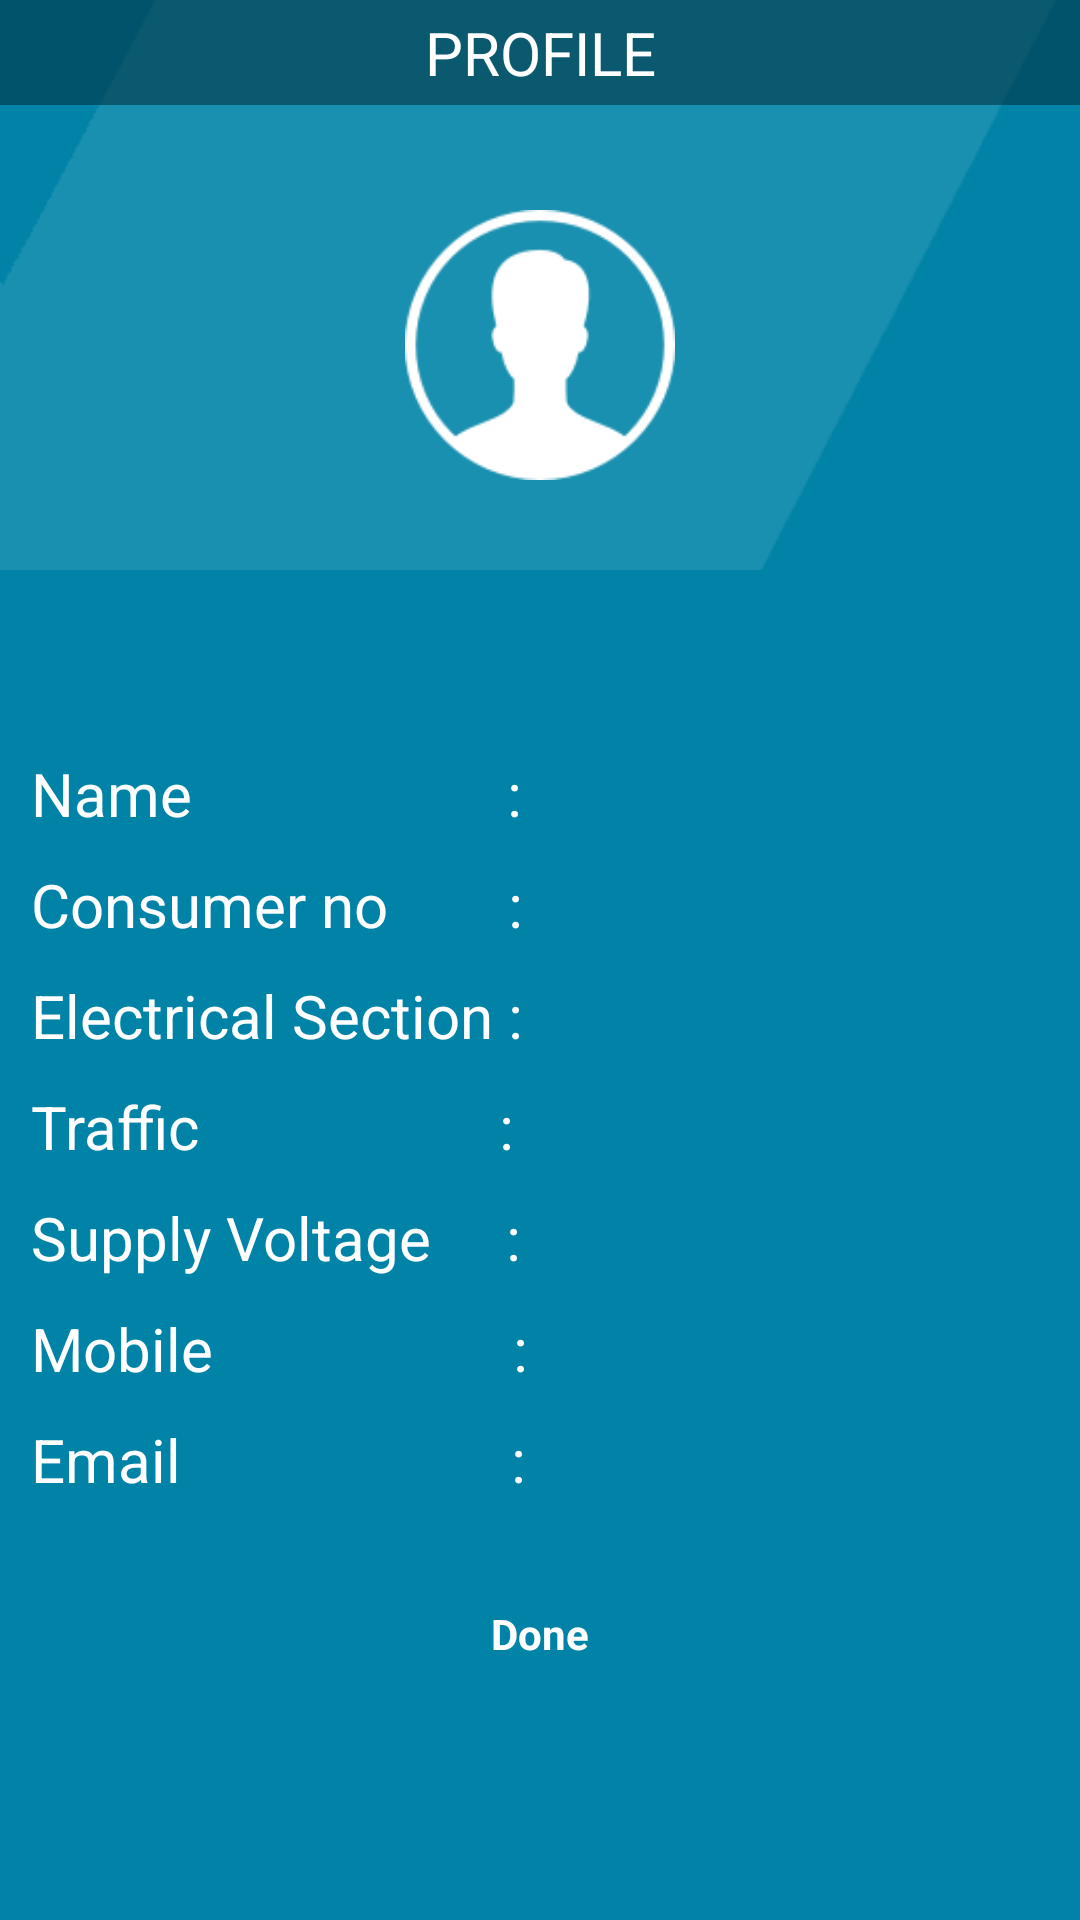

Named icons in this screenshot (1080px×1920px) and their bounding boxes, (x1, y1, x2, y2):
user: (405, 210, 675, 480)
